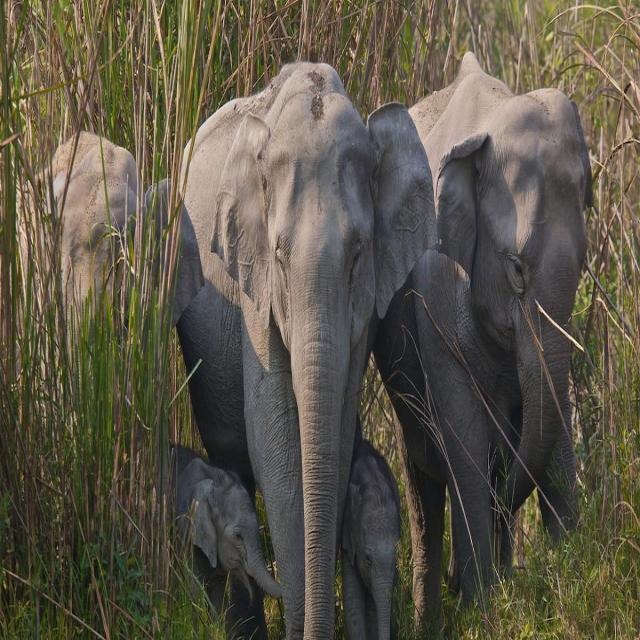Elephant: (172, 54, 439, 640), (412, 47, 596, 602), (4, 126, 204, 550), (166, 431, 283, 640), (344, 425, 403, 640)
